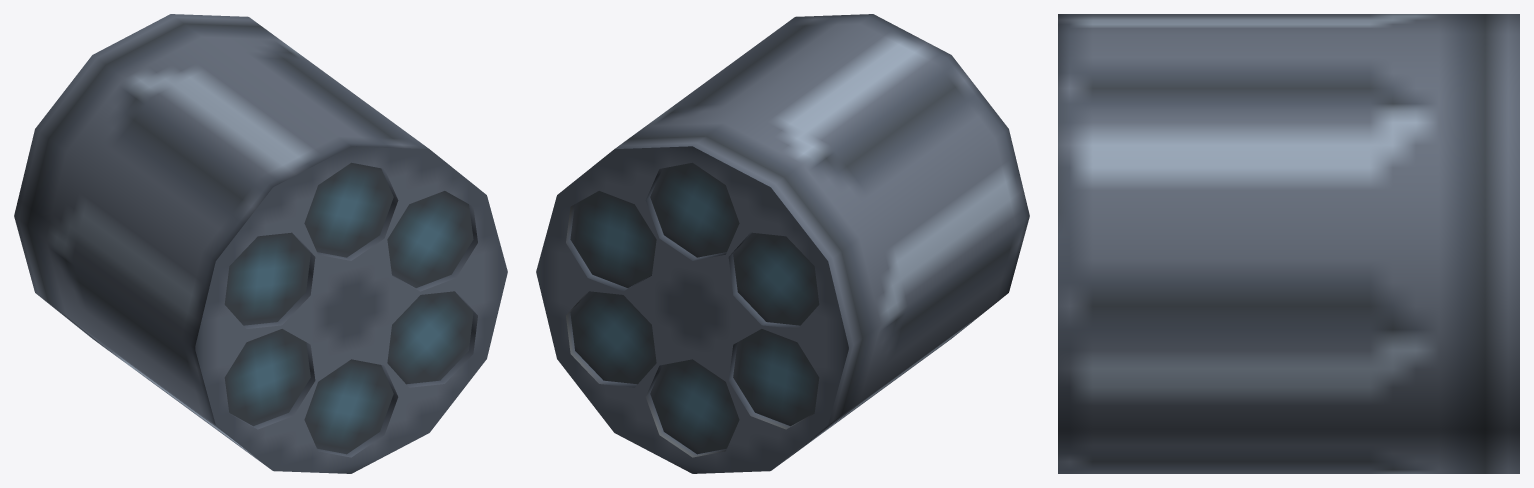
Rendered from revolver_drum_atlas.obj.
3 views of the same model, side by side, from view 1: azimuth 30°, elevation 25°; view 2: azimuth 150°, elevation 25°; view 3: azimuth 270°, elevation 25° (orthographic). The views are drawn at different scales.
Parts seen in each view (by area): view 1: Drum; view 2: Drum; view 3: Drum.
Boxes of the visible parts, bbox=[...] form: Drum: bbox=[14, 14, 507, 473]; Drum: bbox=[536, 14, 1029, 473]; Drum: bbox=[1058, 14, 1519, 473].
Bounding box in the file's own units: 2.5 × 2.5 × 2.5.
